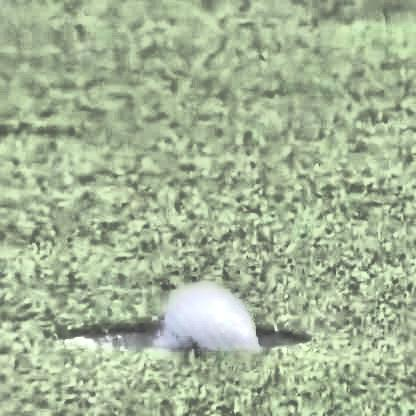golfball: (153, 298, 261, 368)
